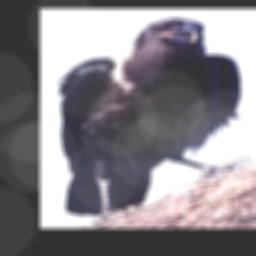Crow: (55, 16, 246, 222)
